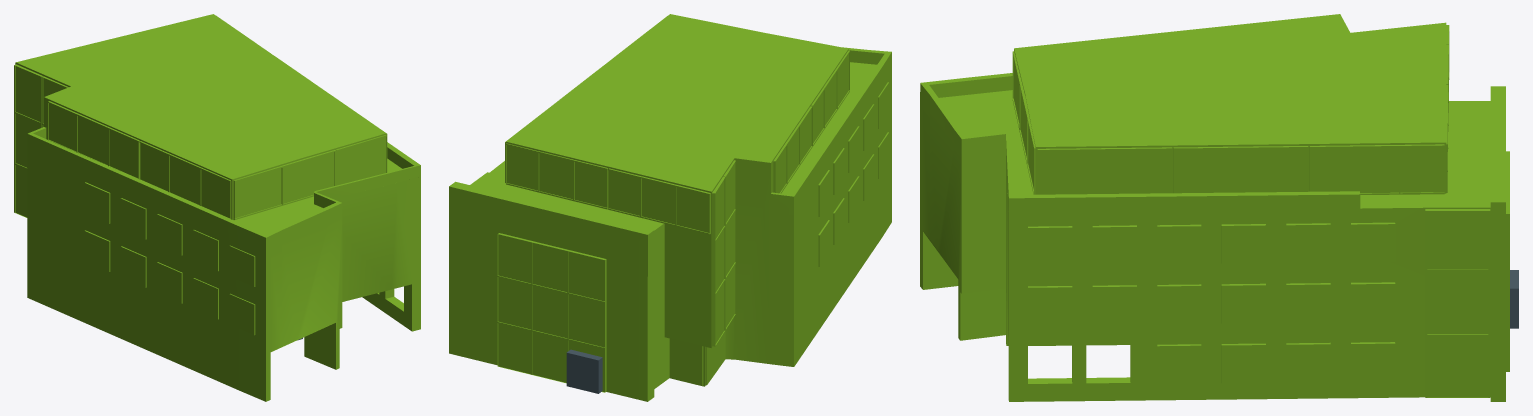
3 views of the same model, side by side, from view 1: azimuth 30°, elevation 25°; view 2: azimuth 150°, elevation 25°; view 3: azimuth 270°, elevation 25° (orthographic). The views are drawn at different scales.
Visible parts, largest first — view 1: A13; view 2: A13, Entrance; view 3: A13, Entrance.
Part boxes in pixels (x1=…): A13: x1=14, y1=14, x2=420, y2=401; A13: x1=449, y1=14, x2=891, y2=401; Entrance: x1=566, y1=349, x2=602, y2=393; A13: x1=920, y1=14, x2=1509, y2=401; Entrance: x1=1510, y1=270, x2=1518, y2=328.
Size of the model in its own units: 17.16 by 12 by 27.06.
